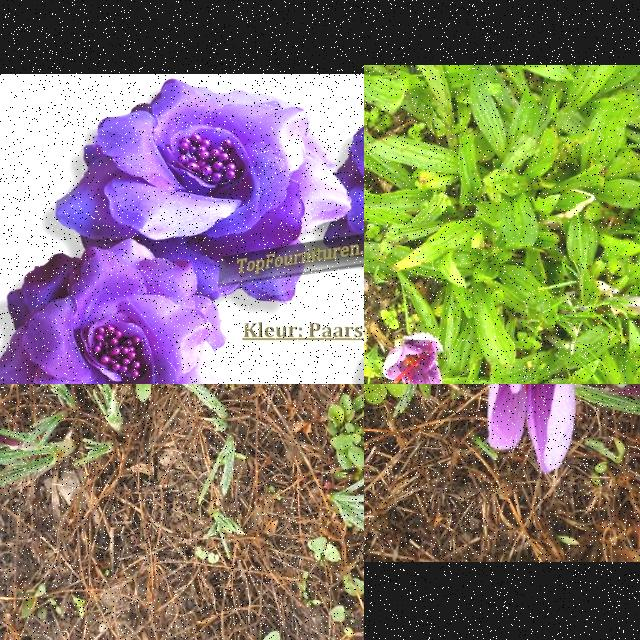flower: (458, 384, 576, 473), (382, 332, 444, 384)
